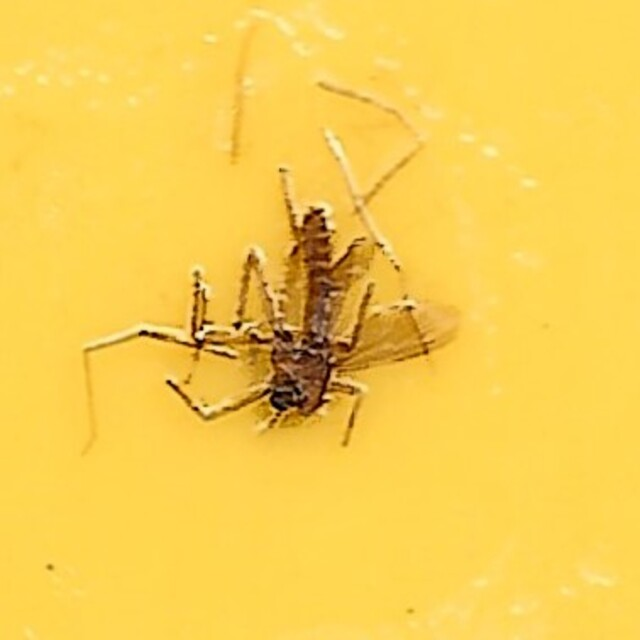Nematocera: (169, 191, 471, 449)
